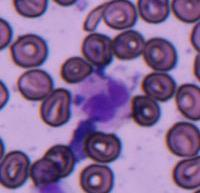N: (75, 72, 132, 128)
